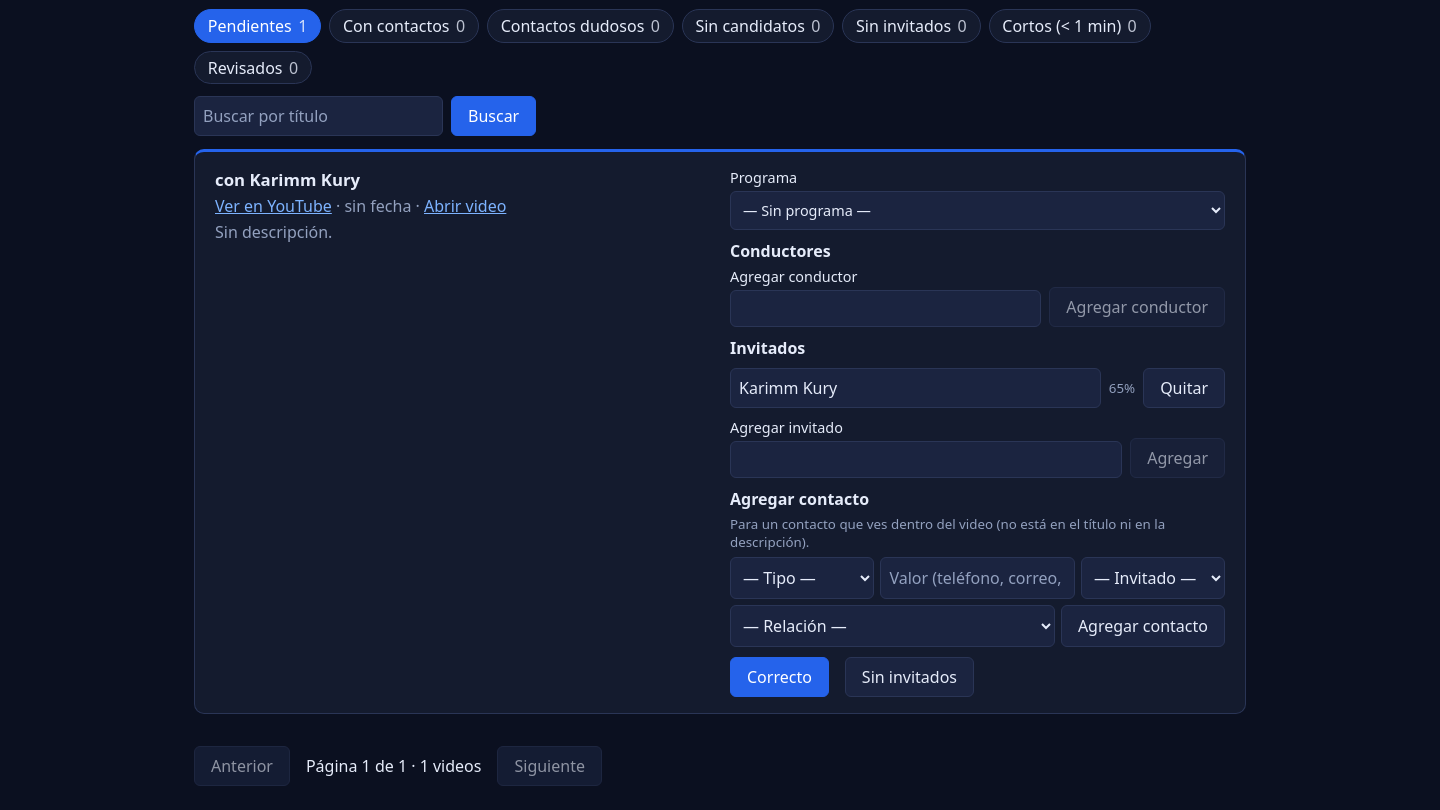
Test case: Revisión por video › "Correcto" acepta todos los candidatos del video y lo quita de la lista
This screenshot has width=1440, height=810.
(page scrolled)
Click the button "Correcto" at [779, 677], box [730,657,829,697]
(page scrolled)
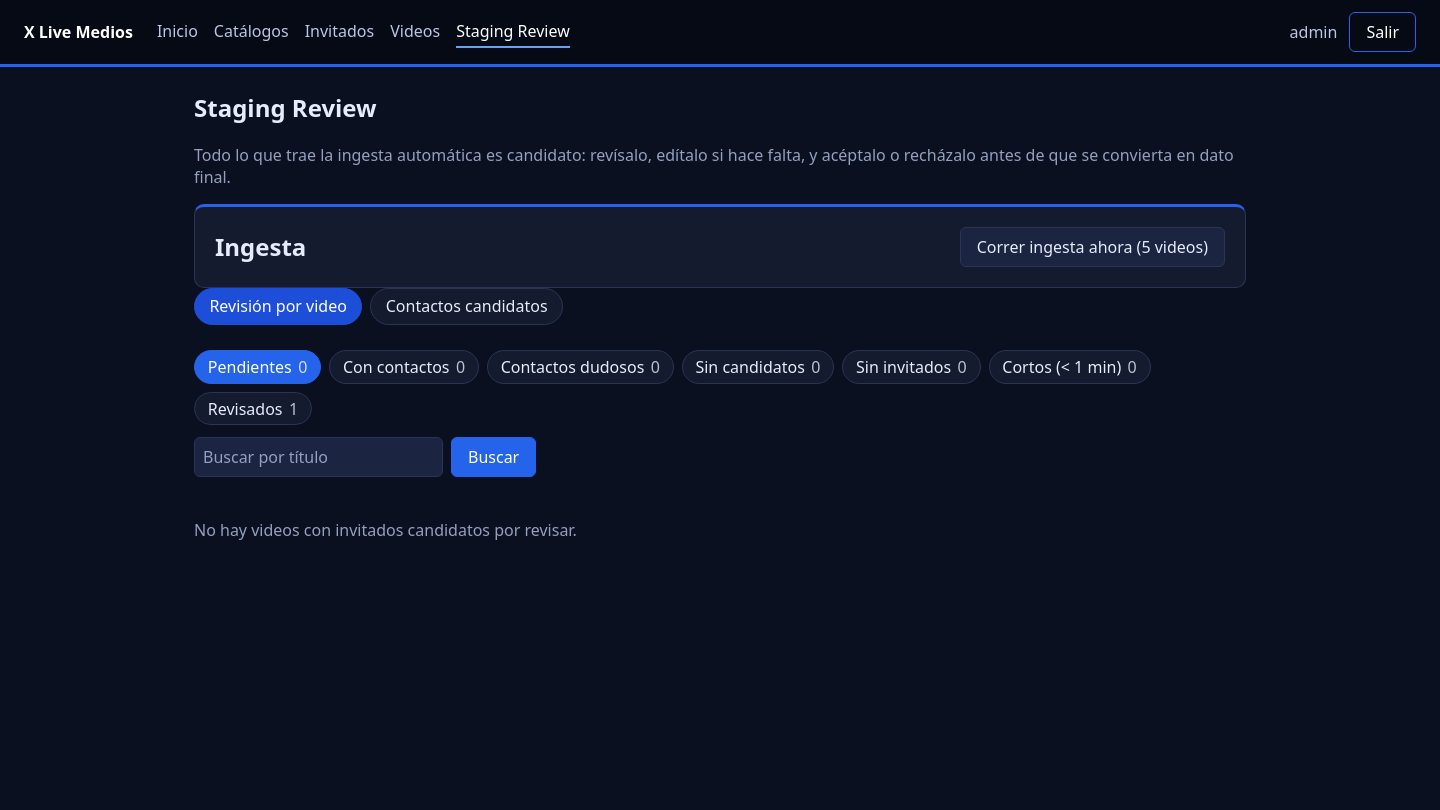
Check: the text "No hay videos con invitados candidatos por revisar." is shown, box [194,519,577,541]
